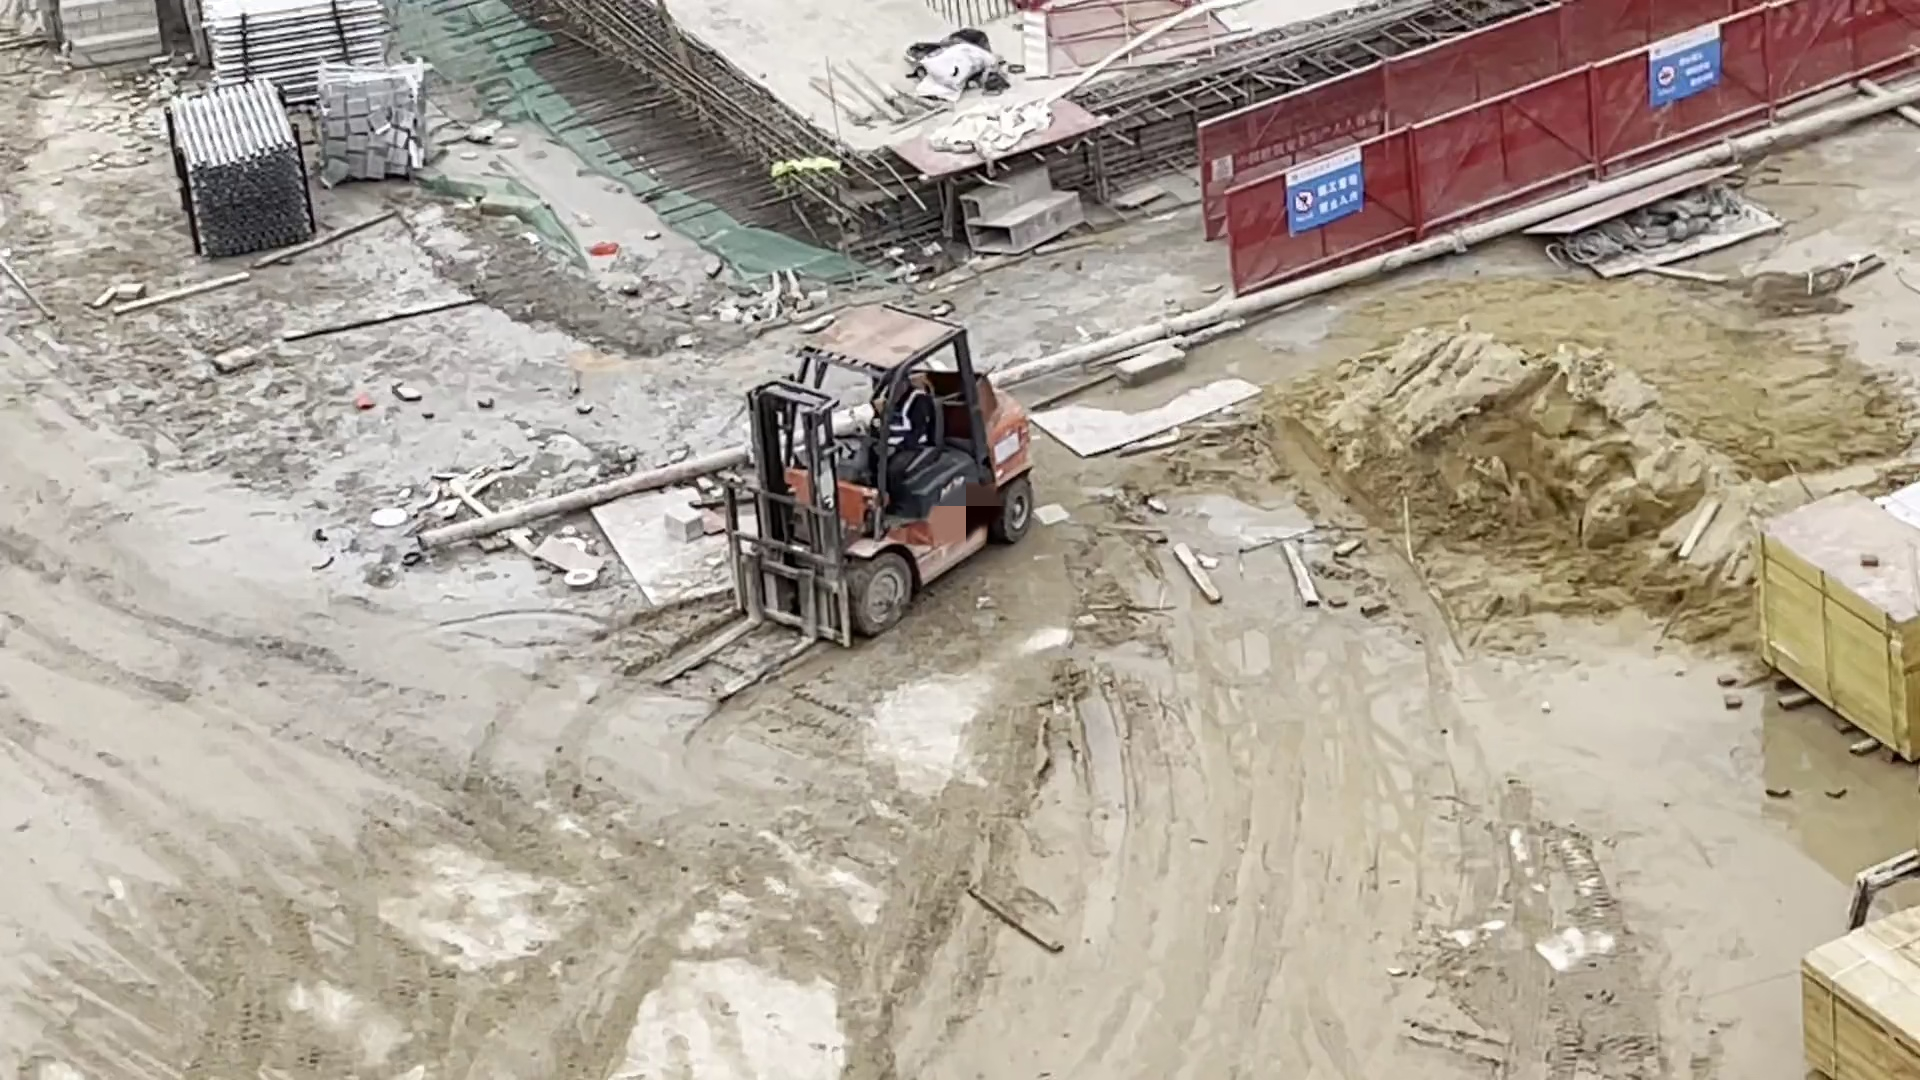board: (1756, 485, 1920, 765)
brick: (57, 1, 162, 69)
scaffold: (164, 76, 314, 260), (203, 1, 386, 94)
slogan: (1204, 104, 1382, 182), (1288, 148, 1360, 237), (1650, 24, 1720, 108)
